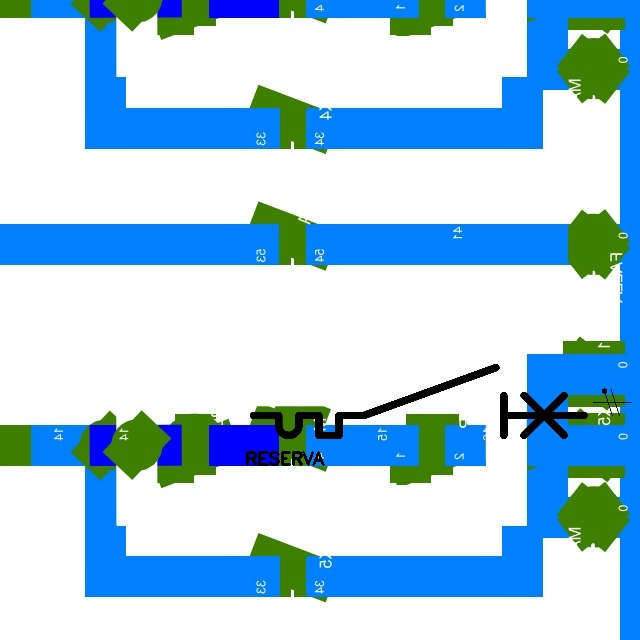interruptor_termomagnetico: (245, 359, 593, 444)
